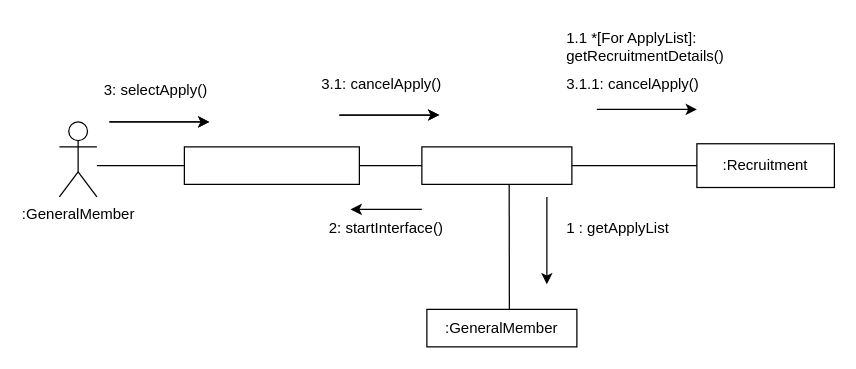
This 856x369 diagram has some shape labels left out. Each missing label, with the box of its shape:
:cancelApplyInfor: (421, 146, 572, 184)
:cancelApplyInforUI: (183, 146, 359, 184)
